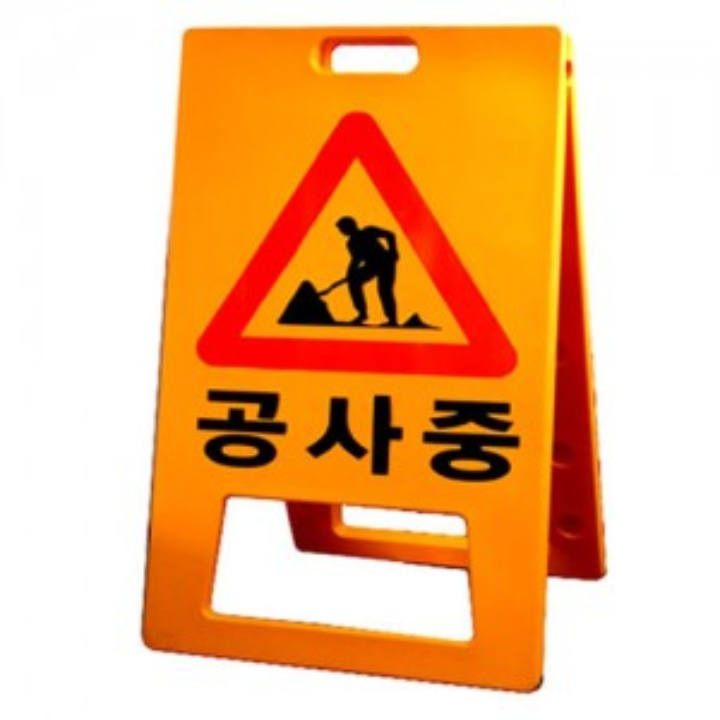const: (279, 209, 447, 327)
